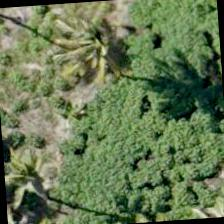Kelapa_Sawit: (40, 0, 136, 86), (1, 116, 76, 211)
